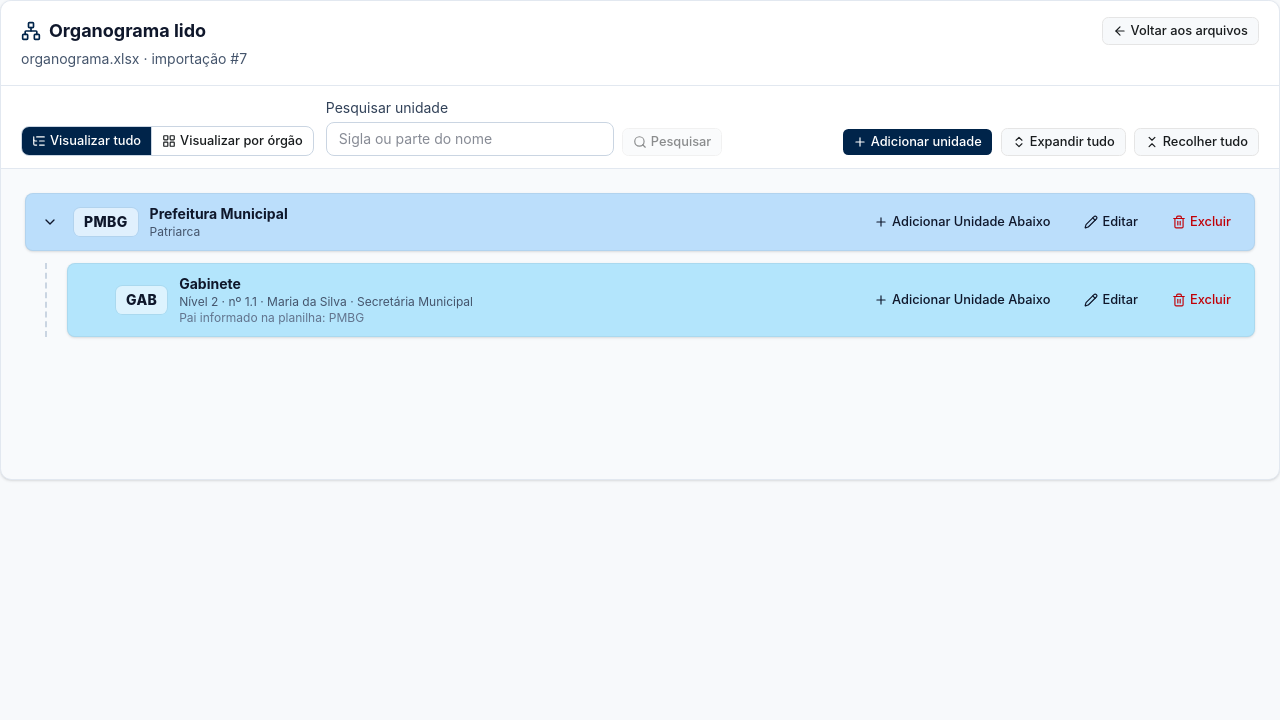
it: visualização hierárquica do organograma › abre a inclusão da linha com a unidade pai previamente selecionada
This screenshot has width=1280, height=720.
What coordinates should you click on to do the following:
click the button with aria-label "Adicionar unidade abaixo de GAB"
I would click on:
 (962, 300)
Its box is x1=863 y1=286 x2=1062 y2=314.
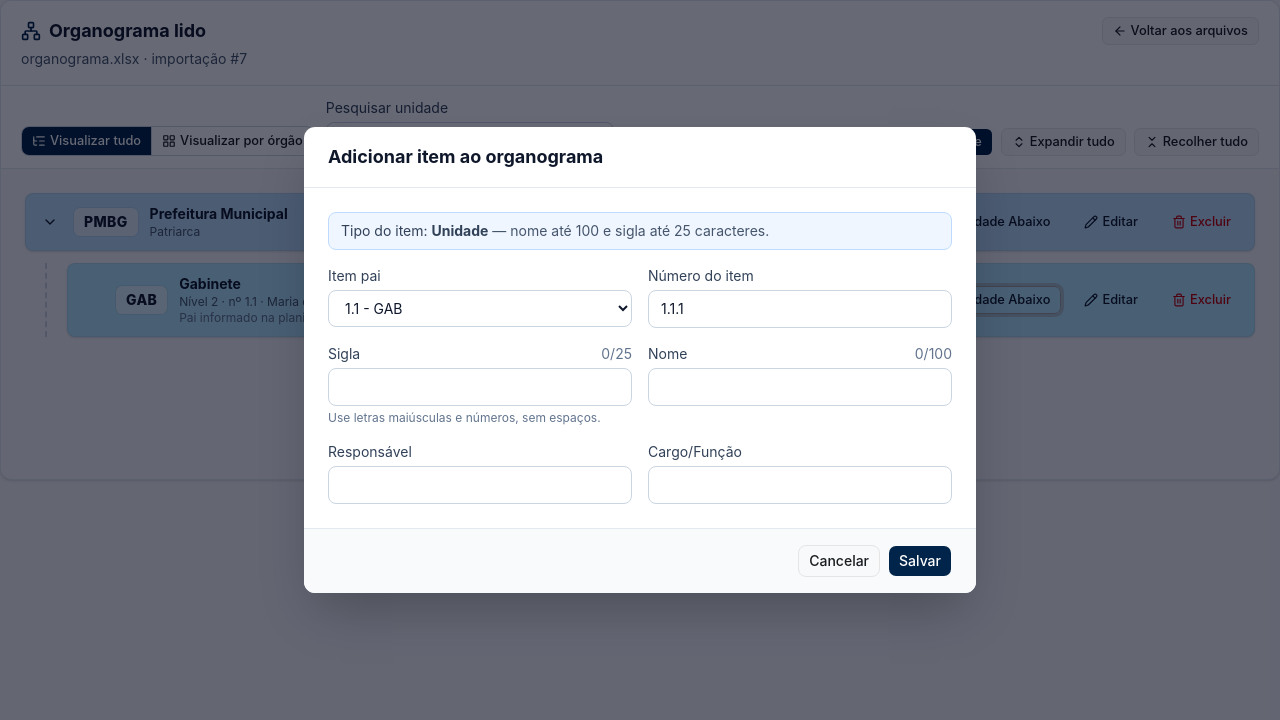
Result: the dialog "Adicionar item ao organograma" is shown
Result: the dropdown labelled "Item pai" shows "1.1 - GAB" at x1=328 y1=290 x2=632 y2=327
Result: the field labelled "Número do item" holds "1.1.1" at x1=648 y1=290 x2=952 y2=328
